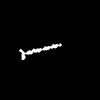half_double_crochet: (19, 44, 60, 59)
